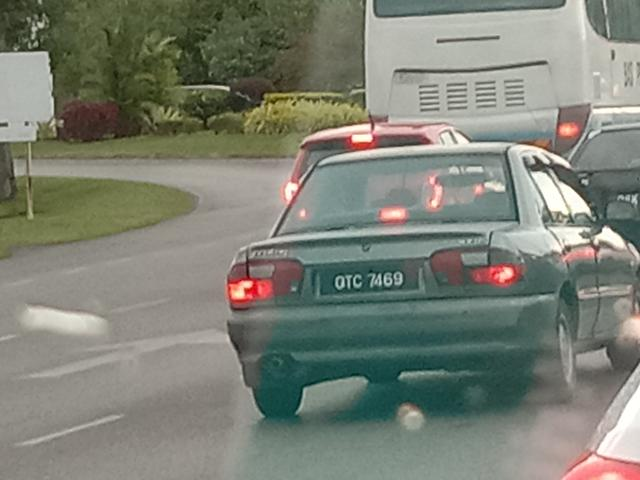License_Plate: (321, 265, 423, 297)
car: (221, 139, 640, 420)
